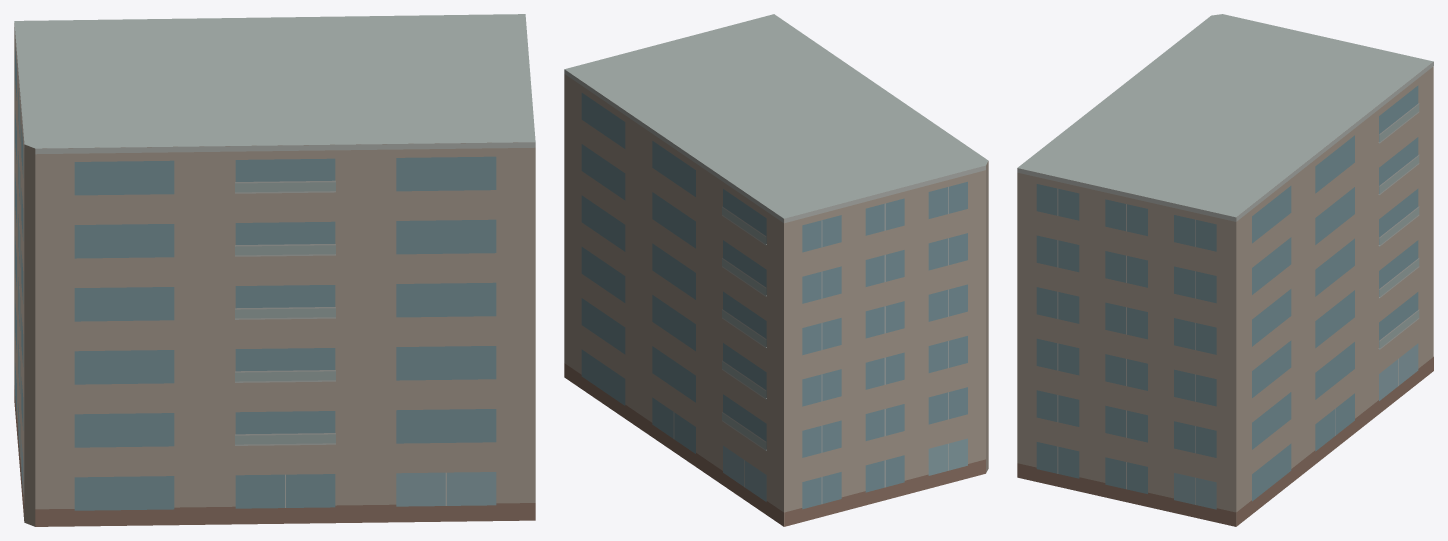
File: survey-upis-32657217.glb
3 views of the same model, side by side, from view 1: azimuth 30°, elevation 25°; view 2: azimuth 150°, elevation 25°; view 3: azimuth 270°, elevation 25° (orthographic). The views are drawn at different scales.
Visible parts, largest first — view 1: survey-upis-32657217.tmp; view 2: survey-upis-32657217.tmp; view 3: survey-upis-32657217.tmp.
Part boxes in pixels (box(x1,y1,x2,y2)): survey-upis-32657217.tmp: box(14, 14, 535, 526); survey-upis-32657217.tmp: box(564, 14, 988, 526); survey-upis-32657217.tmp: box(1017, 14, 1433, 526).
Bounding box in the file's own units: 23.12 × 16.4 × 20.01.
